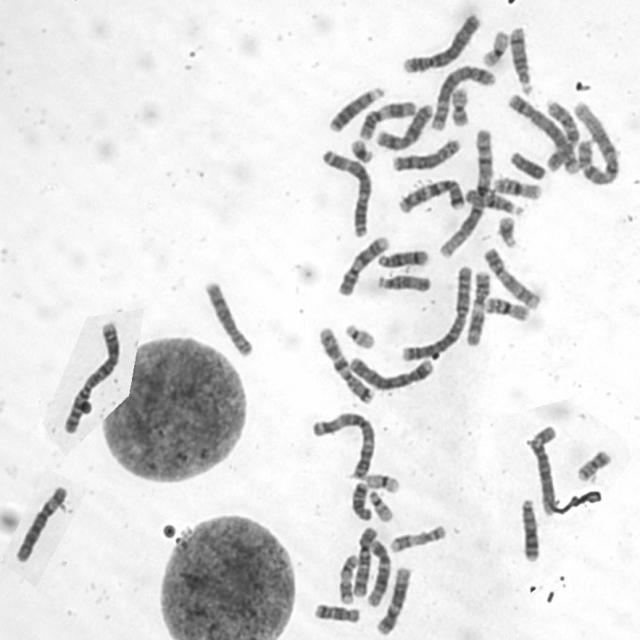A1: (436, 126, 496, 260), (571, 98, 621, 187)
A2: (398, 263, 474, 363), (59, 318, 122, 436)
A3: (318, 145, 372, 239), (309, 408, 376, 480)
B4: (399, 11, 482, 76), (344, 352, 436, 391)
B5: (505, 90, 581, 176), (426, 62, 498, 132)
C10: (541, 96, 580, 174), (350, 522, 378, 598)
C11: (356, 98, 417, 140), (462, 267, 493, 347)
C12: (374, 564, 412, 636), (364, 537, 392, 607)
C6: (12, 481, 70, 564), (529, 426, 559, 516)
C7: (315, 324, 375, 406), (395, 175, 468, 215)
C8: (202, 278, 255, 359), (388, 135, 462, 174)
C9: (481, 245, 542, 311), (334, 232, 392, 298)
D13: (326, 84, 386, 134), (517, 495, 540, 563)
D14: (507, 22, 534, 96), (373, 246, 431, 269)
D15: (461, 185, 525, 218), (373, 272, 434, 294)
E16: (491, 174, 542, 201), (482, 294, 531, 322)
E17: (386, 521, 448, 554), (336, 551, 360, 605)
E18: (312, 599, 362, 625), (349, 479, 374, 522)
F19: (480, 28, 510, 68), (362, 470, 402, 494)
F20: (574, 448, 614, 482), (448, 87, 469, 127)
G21: (496, 212, 520, 249), (348, 136, 376, 164)
G22: (342, 320, 378, 351), (367, 488, 395, 523)
X: (372, 100, 436, 152)
Y: (506, 148, 546, 182)
